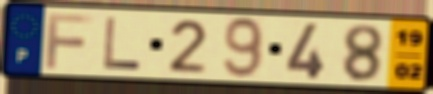2: (167, 18, 210, 74)
4: (284, 20, 330, 82)
8: (339, 22, 386, 83)
9: (220, 15, 266, 82)
F: (43, 11, 96, 71)
L: (101, 15, 144, 72)
